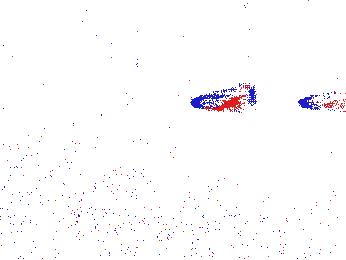redtail glassfish: (185, 82, 256, 117), (299, 84, 346, 116)
